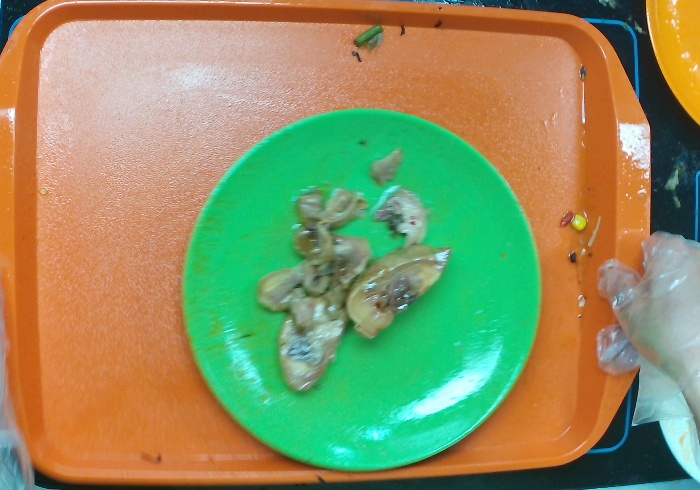HZYJPL-Lv_Se_Yuan_Pan: (179, 104, 544, 472)
